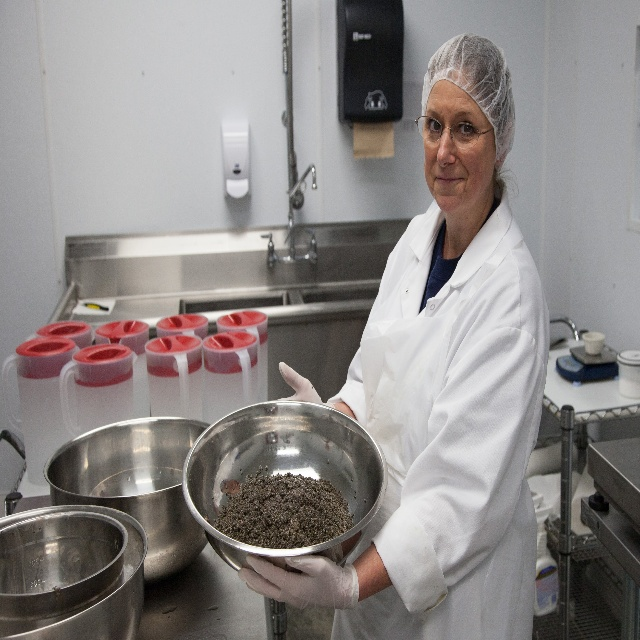Gafas: (413, 114, 493, 148)
Guantes: (239, 544, 358, 612), (278, 357, 324, 402)
